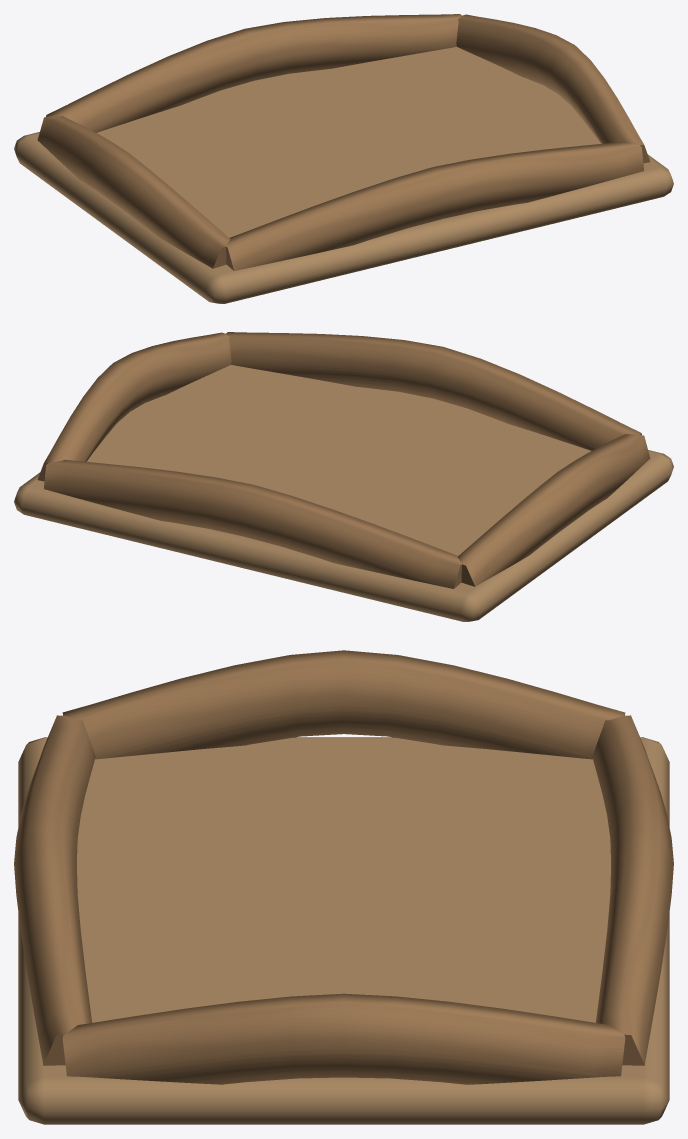
The model's file is product-off.tray.glb.
The picture shows the model from 3 angles, top to bottom: view 1: azimuth 30°, elevation 25°; view 2: azimuth 150°, elevation 25°; view 3: azimuth 270°, elevation 25°; orthographic projection. The views are drawn at different scales.
Parts seen in each view (by area): view 1: product-off.tray; view 2: product-off.tray; view 3: product-off.tray.
Part boxes in pixels (x1=…): product-off.tray: x1=14, y1=14, x2=673, y2=303; product-off.tray: x1=14, y1=332, x2=673, y2=621; product-off.tray: x1=14, y1=650, x2=673, y2=1124.
Size of the model in its own units: 0.39 by 0.0618 by 0.294.
2 materials, 2 textured.
